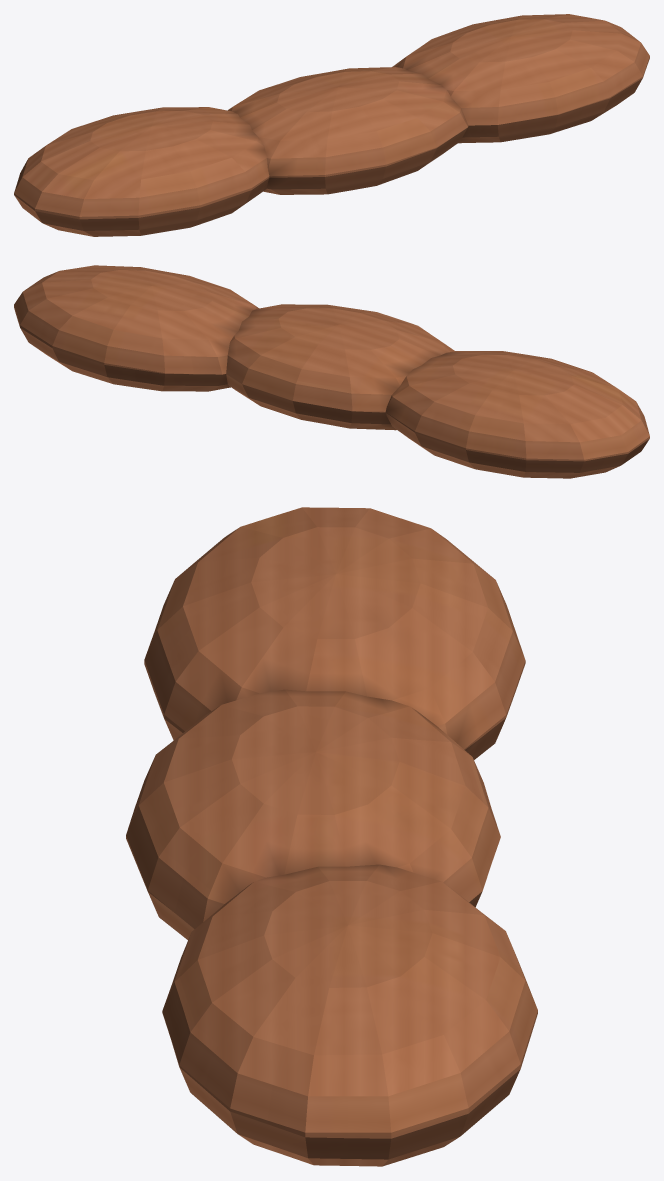
Rendered from p_bread.hi.glb.
The picture shows the model from 3 angles, top to bottom: view 1: azimuth 30°, elevation 25°; view 2: azimuth 150°, elevation 25°; view 3: azimuth 270°, elevation 25°; orthographic projection. The views are drawn at different scales.
Visible parts, largest first — view 1: bread; view 2: bread; view 3: bread.
Part boxes in pixels (x1,y1,x2,y2): bread: [14, 14, 649, 236]; bread: [14, 265, 649, 478]; bread: [126, 507, 537, 1166].
Size of the model in its own units: 0.7505 by 0.1028 by 0.2189.
1 material, 1 textured.
